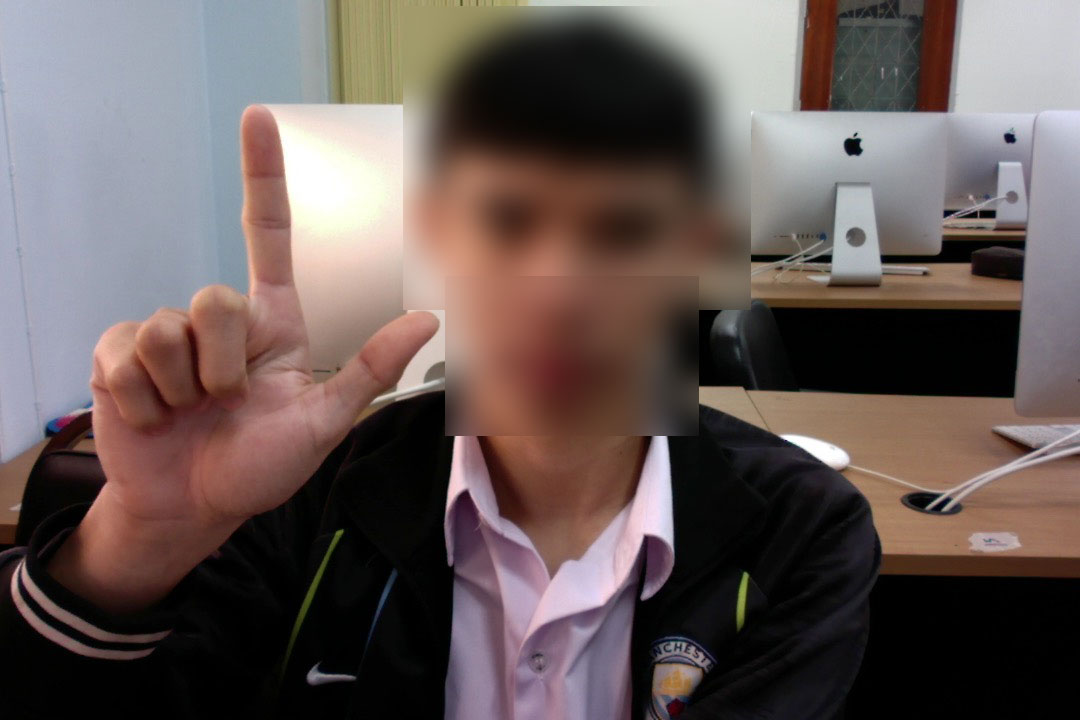lor: (57, 95, 449, 531)
